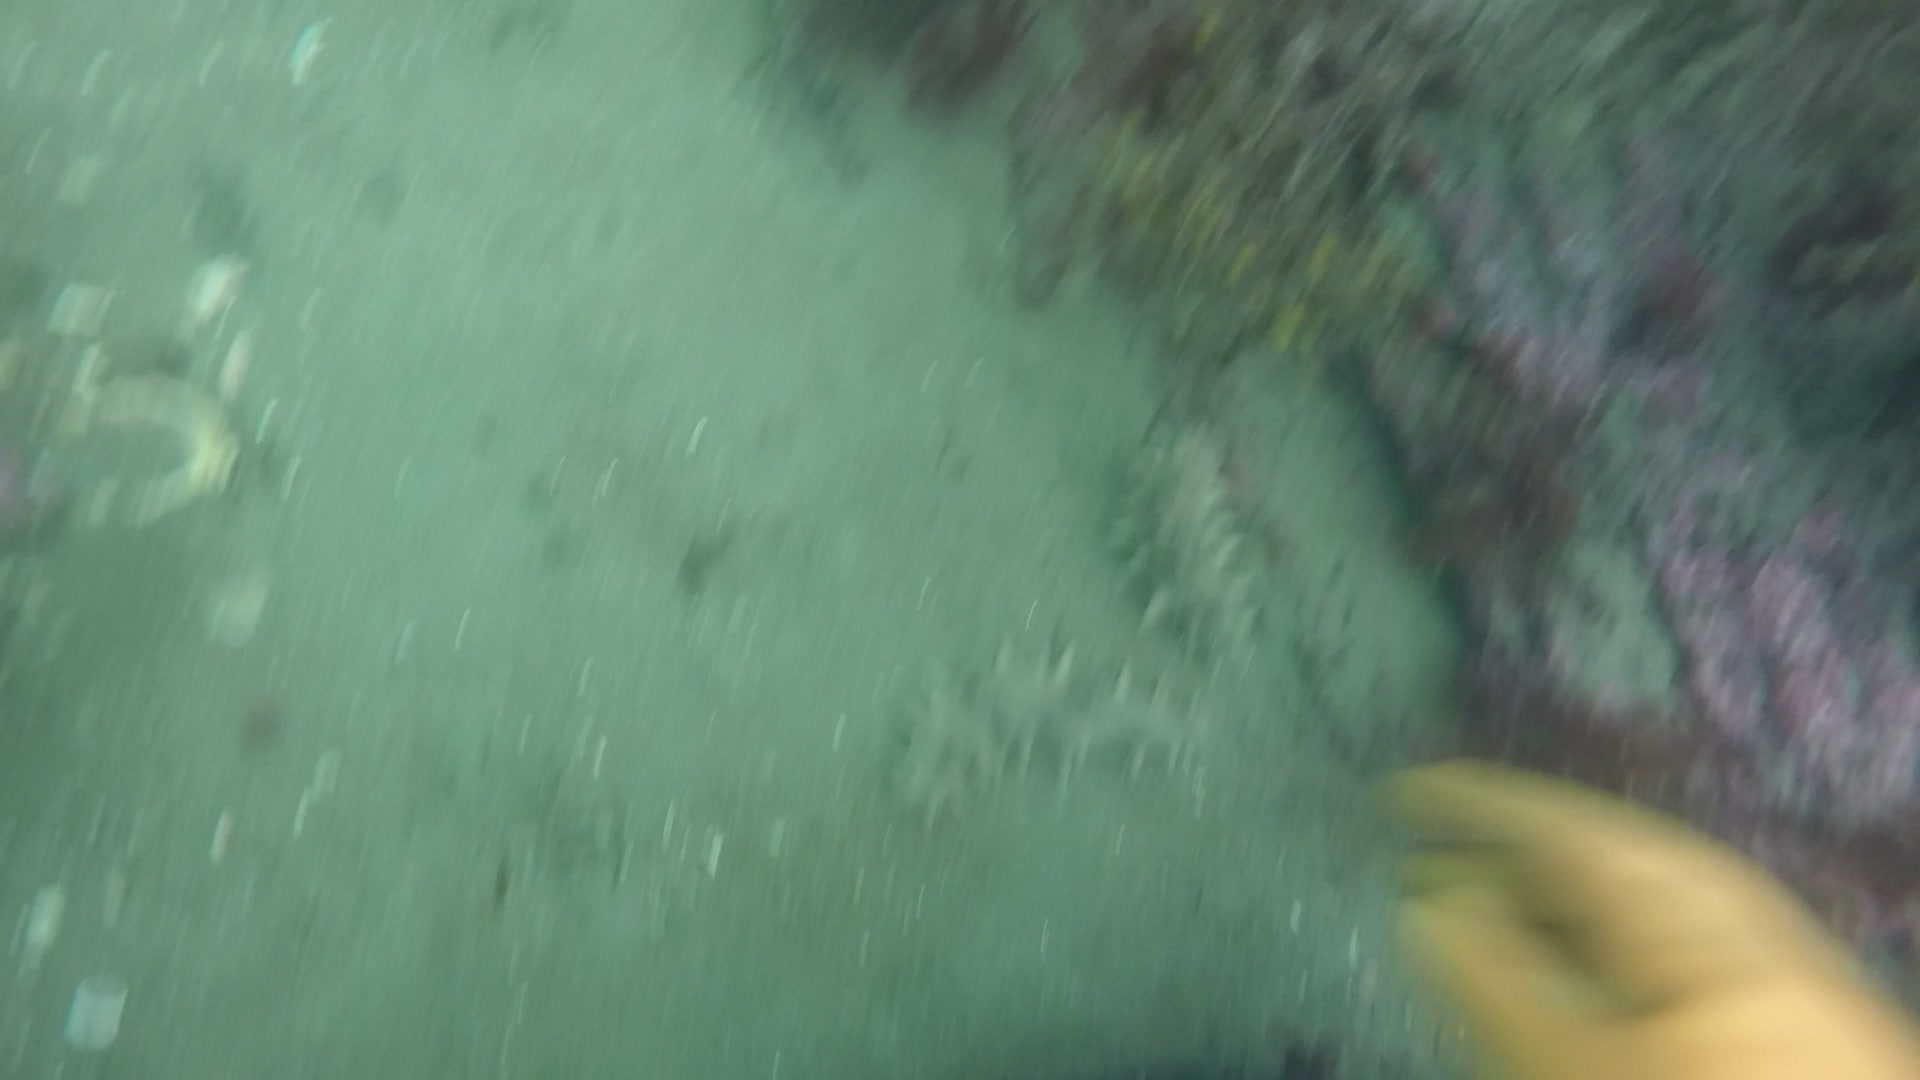holothurian: (869, 644, 1211, 814), (1112, 426, 1273, 662)
